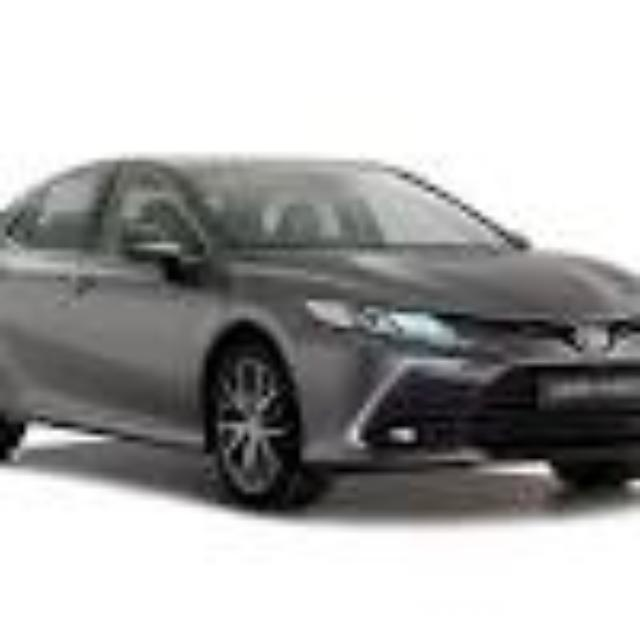toyota: (2, 154, 640, 512)
